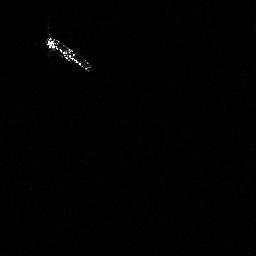ship: (42, 27, 95, 80)
